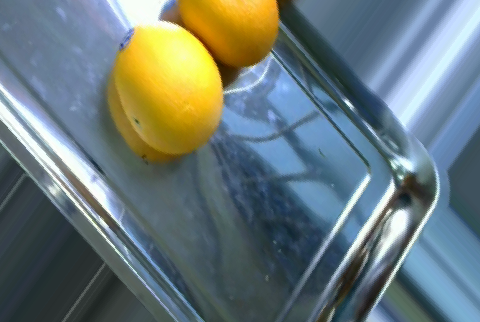Orange: (114, 22, 222, 154)
